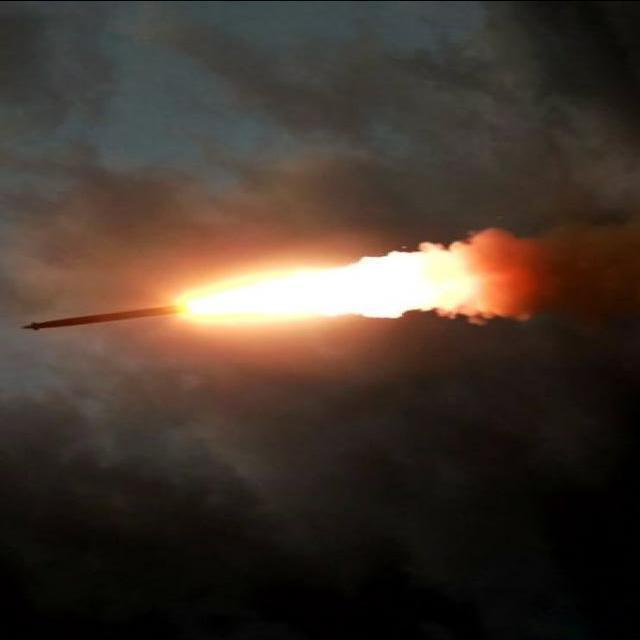missile: (23, 298, 195, 338)
